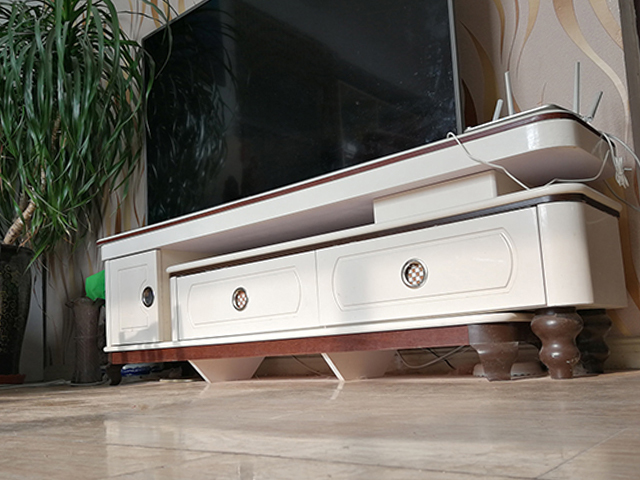cabinet: (93, 100, 631, 389)
wire: (396, 346, 471, 371), (291, 354, 333, 378)
